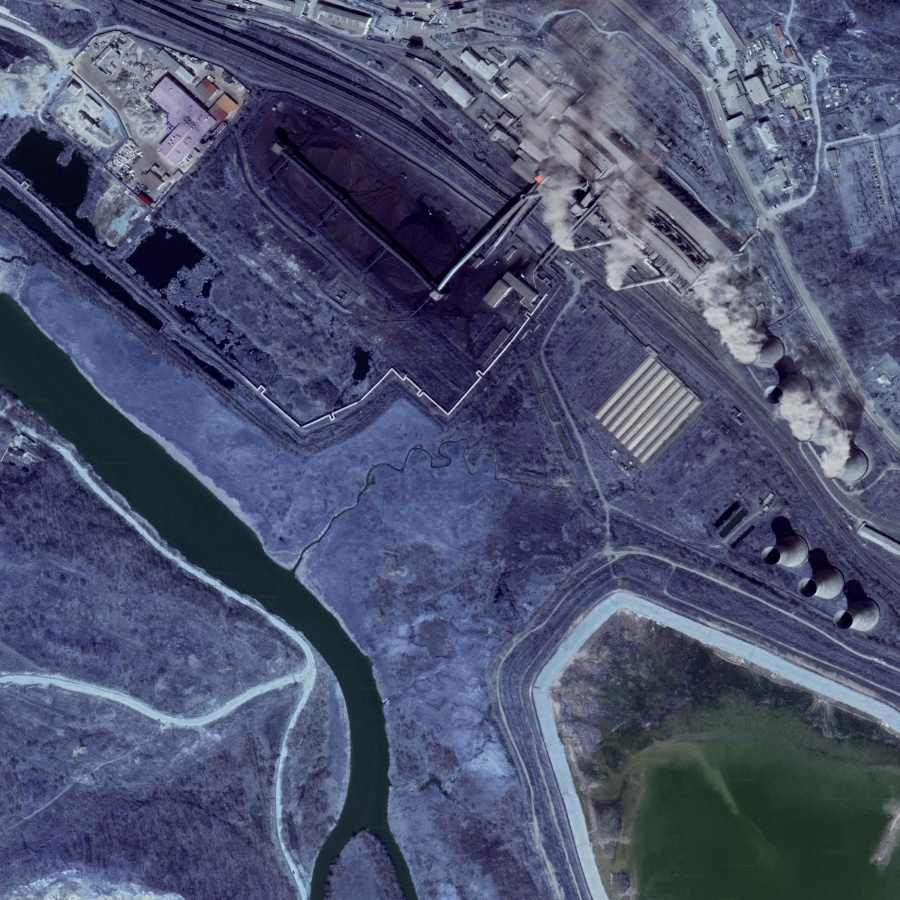PowerPlant: (247, 49, 688, 342)
